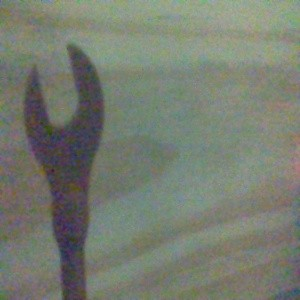spanner: (22, 42, 107, 300)
